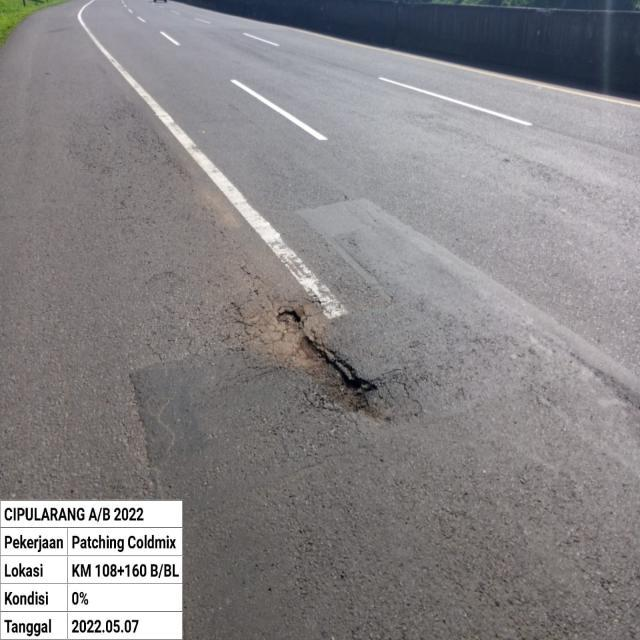Buraco: (296, 334, 382, 415), (270, 304, 312, 336)
